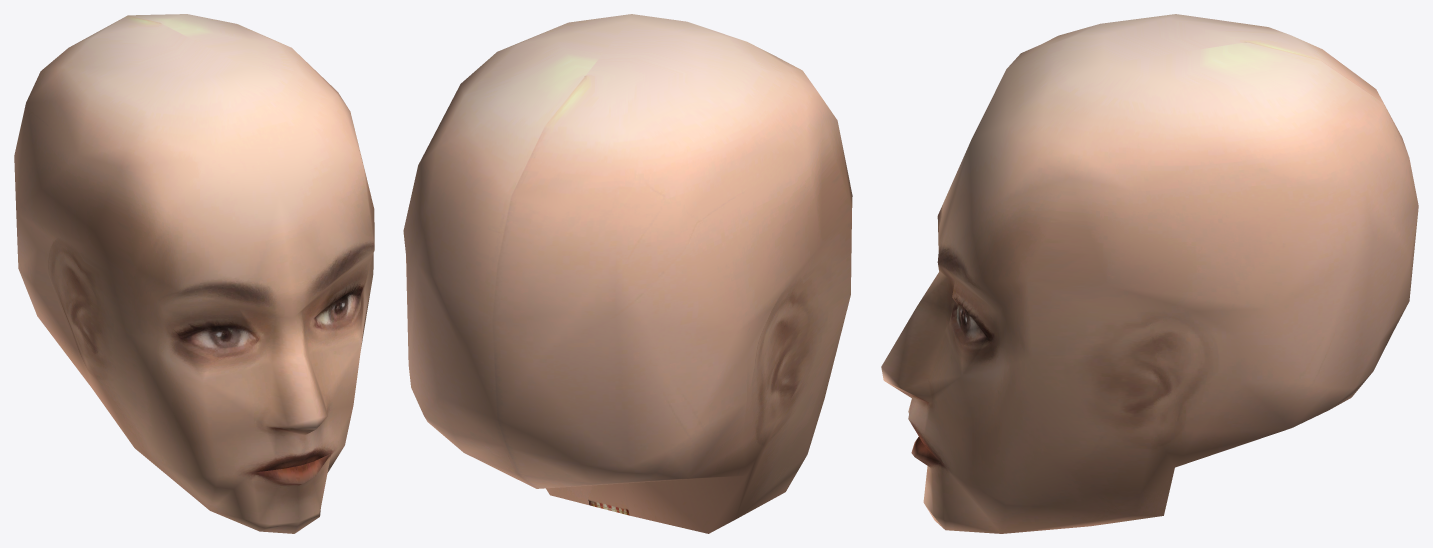
Rendered from b_n_breton_f_head_05.glb.
The picture shows the model from 3 angles, left to right: view 1: azimuth 30°, elevation 25°; view 2: azimuth 150°, elevation 25°; view 3: azimuth 270°, elevation 25°; orthographic projection. The views are drawn at different scales.
Parts seen in each view (by area): view 1: Tri B_N_Breton_F_Head_05; view 2: Tri B_N_Breton_F_Head_05; view 3: Tri B_N_Breton_F_Head_05.
Part boxes in pixels (bbox=[...]): Tri B_N_Breton_F_Head_05: bbox=[14, 14, 374, 533]; Tri B_N_Breton_F_Head_05: bbox=[403, 14, 852, 533]; Tri B_N_Breton_F_Head_05: bbox=[881, 14, 1418, 533].
Bounding box in the file's own units: 0.1001 × 0.151 × 0.1519.
Materials: 1 (1 with a texture image).
